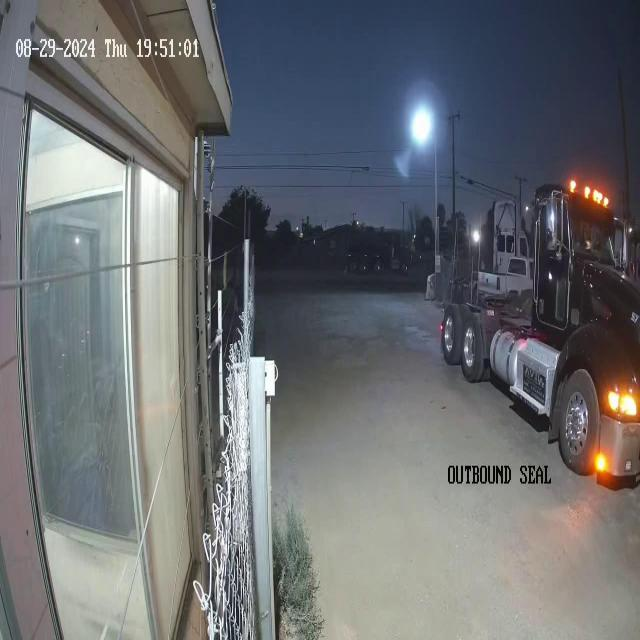TRUCK_IN: (439, 179, 639, 489)
